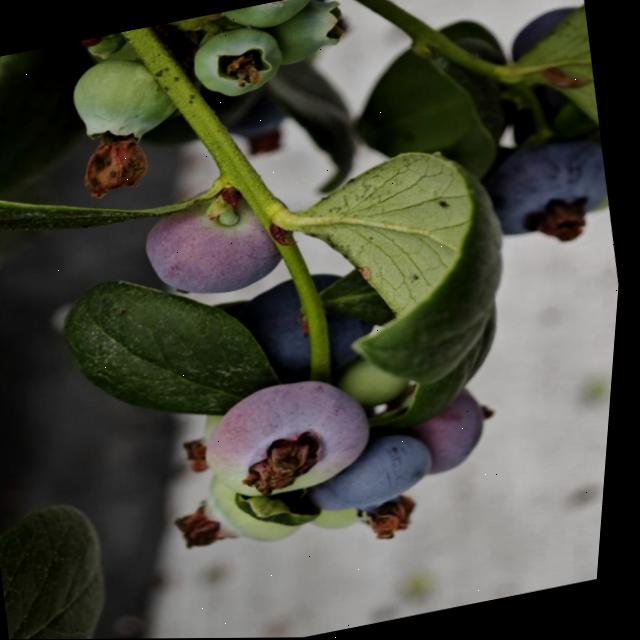RipeBlueBerry: (233, 264, 381, 391), (474, 128, 620, 247), (312, 431, 451, 518)
Semi-RipeBlueBerry: (195, 364, 392, 509), (133, 177, 294, 307), (410, 380, 507, 477)
UnripeBlueBerry: (65, 46, 185, 150), (187, 20, 293, 102), (264, 0, 355, 67)
